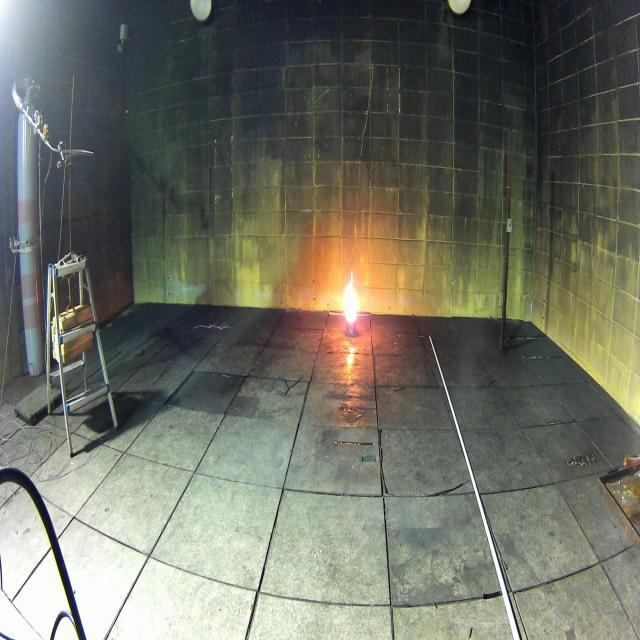Fire: (344, 269, 356, 323)
